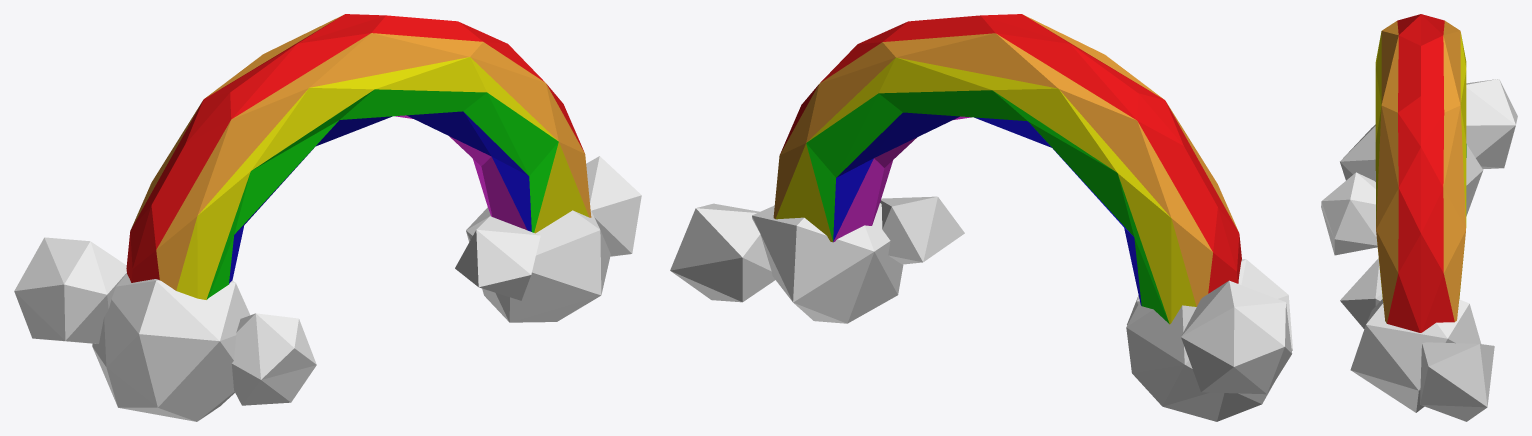
Rendered from rainbow.fbx.
3 views of the same model, side by side, from view 1: azimuth 30°, elevation 25°; view 2: azimuth 150°, elevation 25°; view 3: azimuth 270°, elevation 25° (orthographic). The views are drawn at different scales.
Visible parts, largest first — view 1: Torus, Icosphere.002, Icosphere.000; view 2: Torus, Icosphere.000, Icosphere.002; view 3: Torus, Icosphere.000, Icosphere.002.
Boxes of the visible parts, x1,y1,x2,y2 form: Torus: [126, 14, 591, 299]; Icosphere.002: [14, 237, 316, 421]; Icosphere.000: [455, 156, 641, 322]; Torus: [773, 14, 1241, 324]; Icosphere.000: [670, 196, 964, 323]; Icosphere.002: [1126, 259, 1292, 421]; Torus: [1375, 14, 1466, 332]; Icosphere.000: [1340, 258, 1494, 421]; Icosphere.002: [1321, 79, 1517, 255].
Size of the model in its own units: 331 by 181 by 109.
